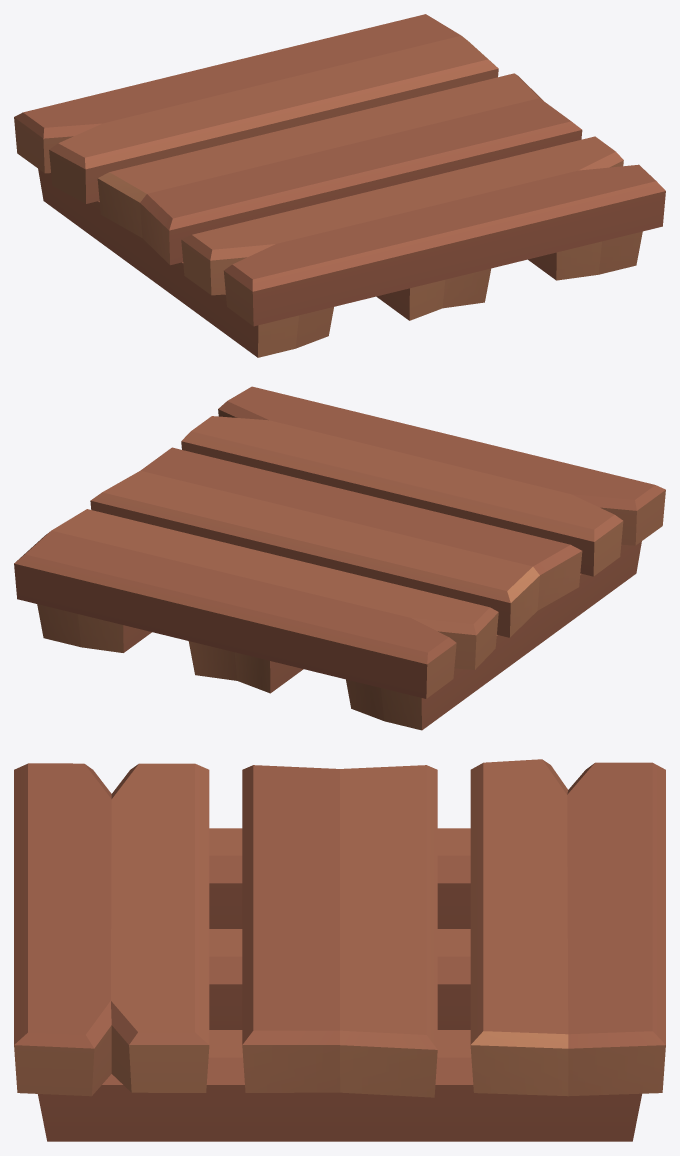
Rendered from pallet_wood.glb.
3 renders of one model, top to bottom at view 1: azimuth 30°, elevation 25°; view 2: azimuth 150°, elevation 25°; view 3: azimuth 270°, elevation 25°, orthographic. The views are drawn at different scales.
Parts seen in each view (by area): view 1: Pallet_Wood; view 2: Pallet_Wood; view 3: Pallet_Wood.
Part boxes in pixels (x1,y1,x2,y2): Pallet_Wood: [14, 14, 665, 357]; Pallet_Wood: [14, 386, 665, 730]; Pallet_Wood: [14, 759, 665, 1141].
Bounding box in the file's own units: 0.9312 × 0.1799 × 0.9007.
1 material, 1 textured.
